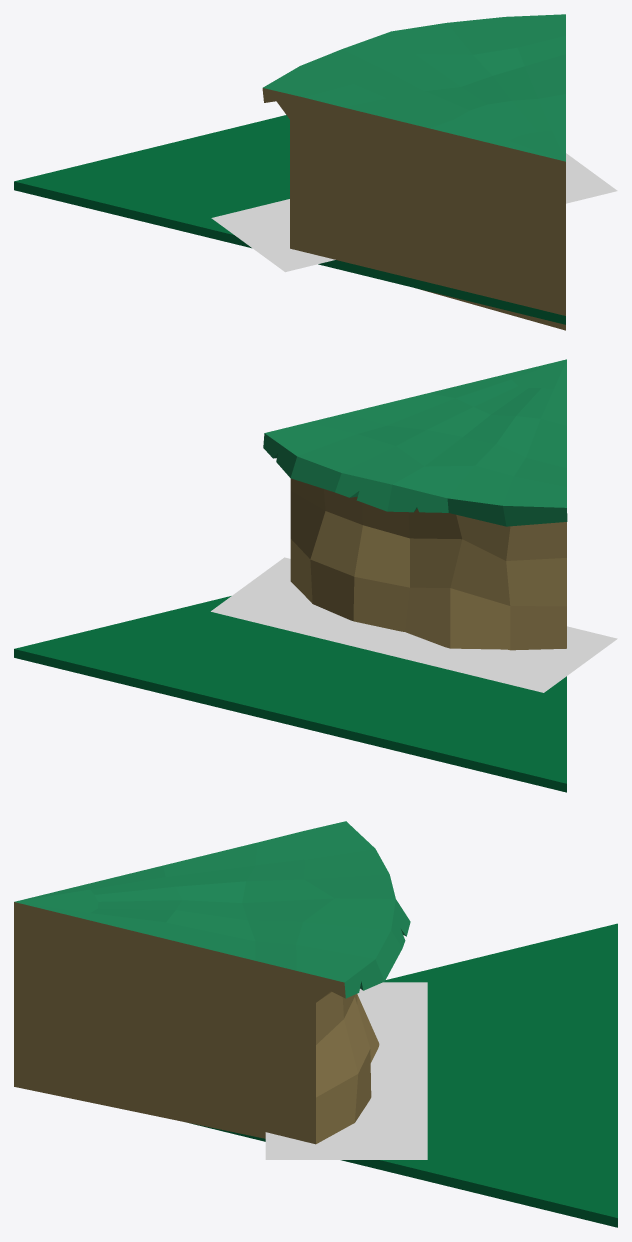
File: tile2.glb
3 views of the same model, one above another, from view 1: azimuth 30°, elevation 25°; view 2: azimuth 150°, elevation 25°; view 3: azimuth 270°, elevation 25° (orthographic). The views are drawn at different scales.
Visible parts, largest first — view 1: hill.008, ground.018, rocks2.003; view 2: hill.008, ground.018, rocks2.003; view 3: hill.008, ground.018, rocks2.003.
Part boxes in pixels (x1,y1,x2,y2): hill.008: (262,14,565,330); ground.018: (14,115,565,324); rocks2.003: (211,153,617,272); hill.008: (263,359,567,650); ground.018: (14,596,566,792); rocks2.003: (211,557,617,692); hill.008: (14,821,410,1144); ground.018: (189,923,617,1227); rocks2.003: (265,982,427,1159).
Bounding box in the file's own units: 1 × 0.2973 × 0.866.
